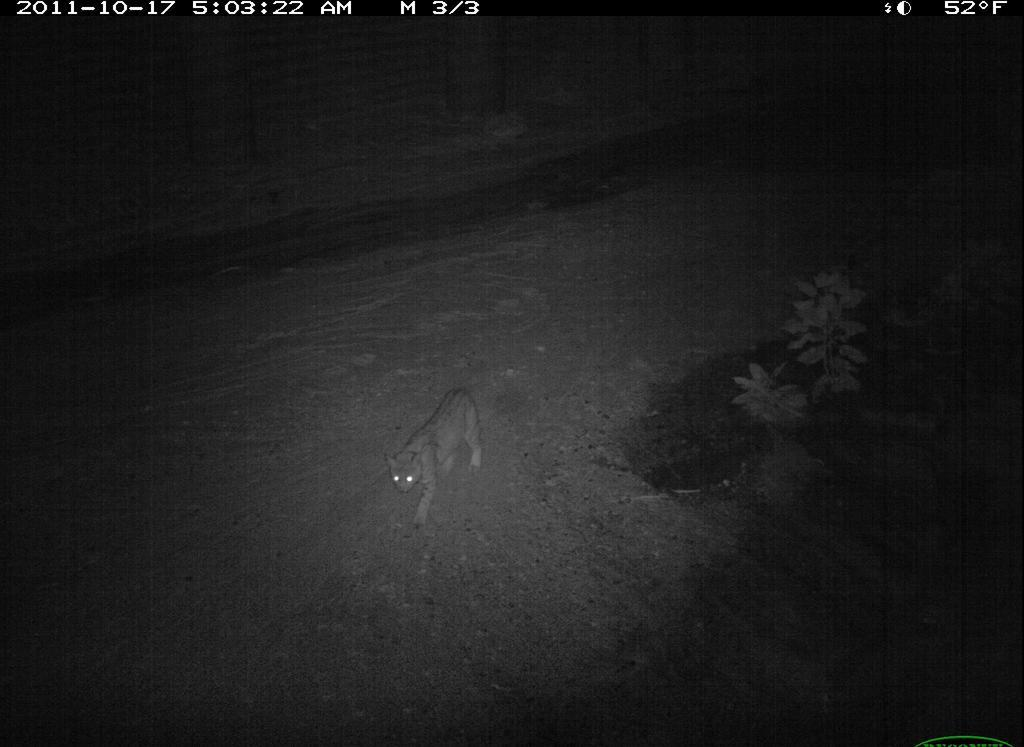bobcat: (386, 370, 510, 530)
